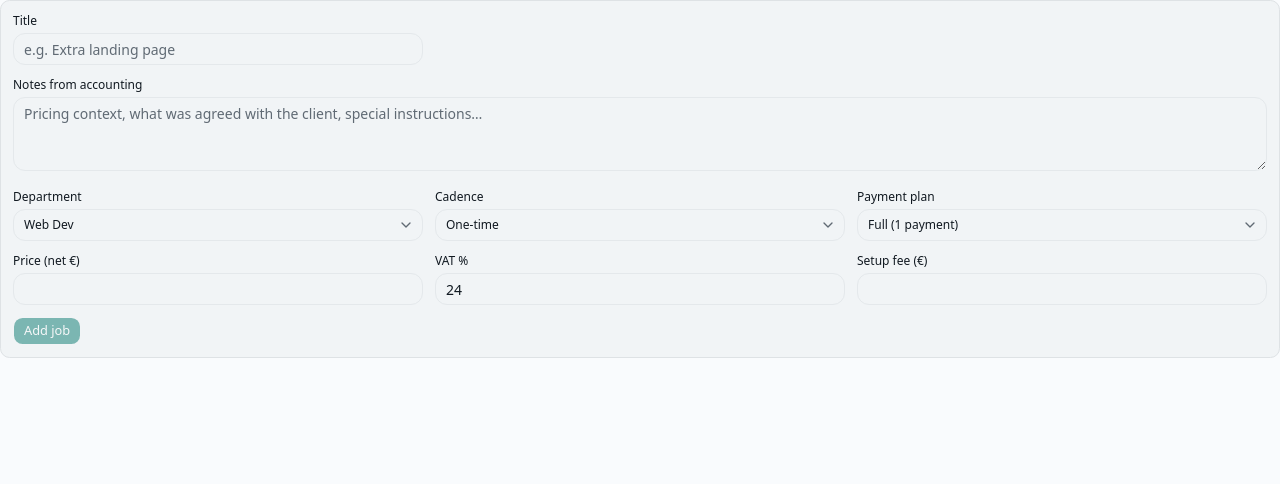
AddCustomJobForm › offers the ads type only for the Ads department, and only ads packages
Expected: the field labelled "type" is not shown
Click the dropdown named "department" at (49, 224), box x1=13 y1=209 x2=423 y2=241
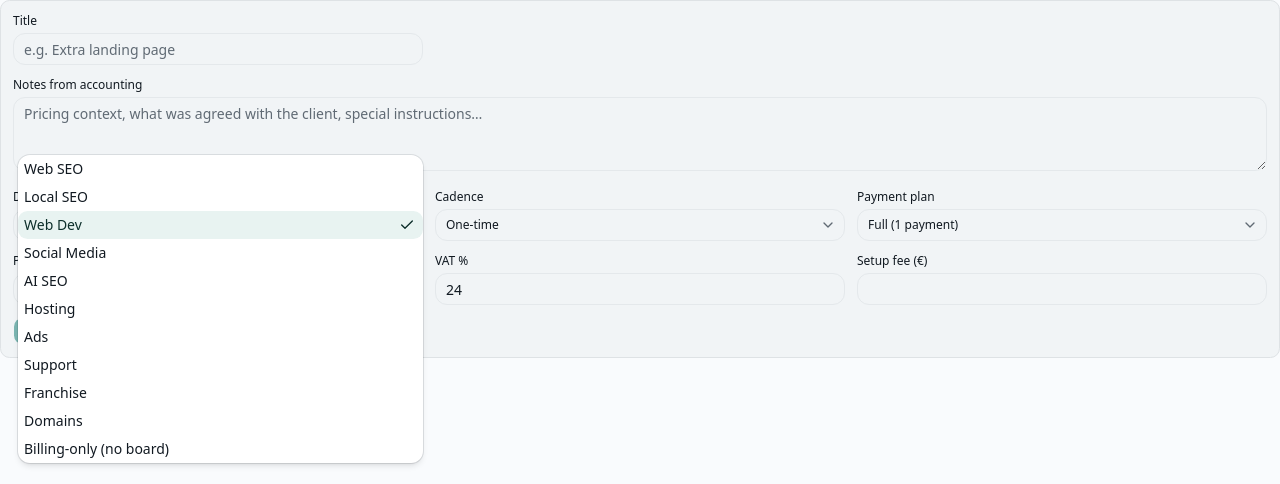
Click the option "Ads" at (36, 336), box x1=24 y1=327 x2=48 y2=346
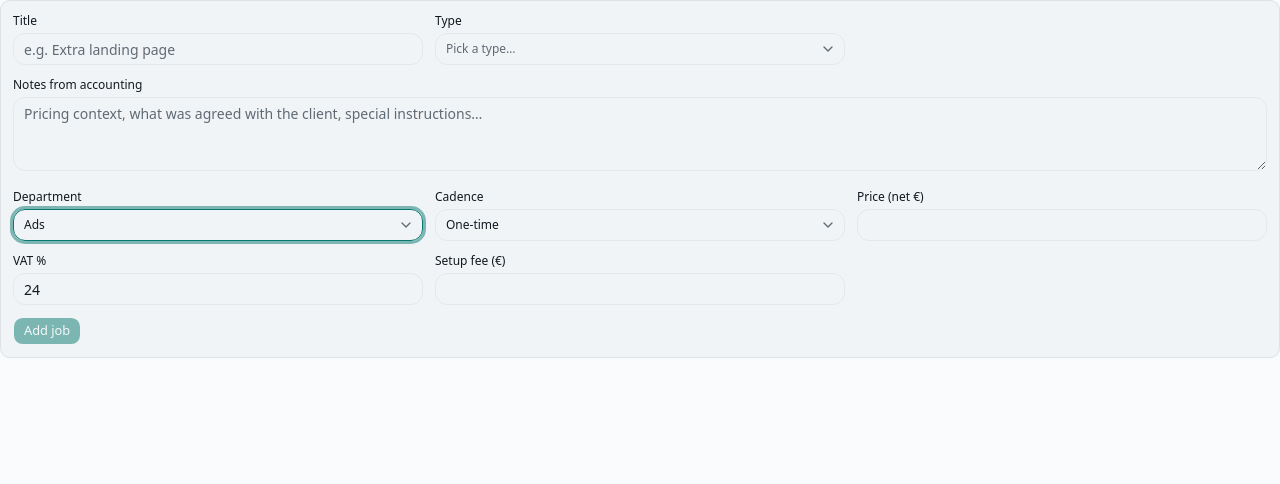
Click the dropdown labelled "Pick a type…" at (481, 48), box x1=435 y1=33 x2=845 y2=65
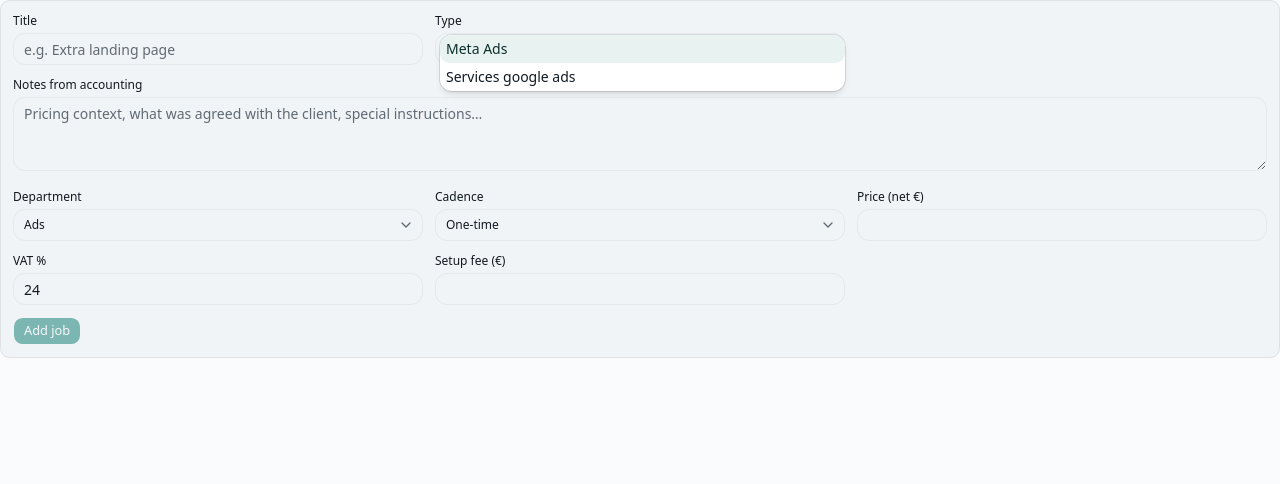
Expected: the option "Meta Ads" is shown, x1=440 y1=35 x2=845 y2=63
Expected: the option "Services google ads" is shown, x1=446 y1=67 x2=576 y2=86
